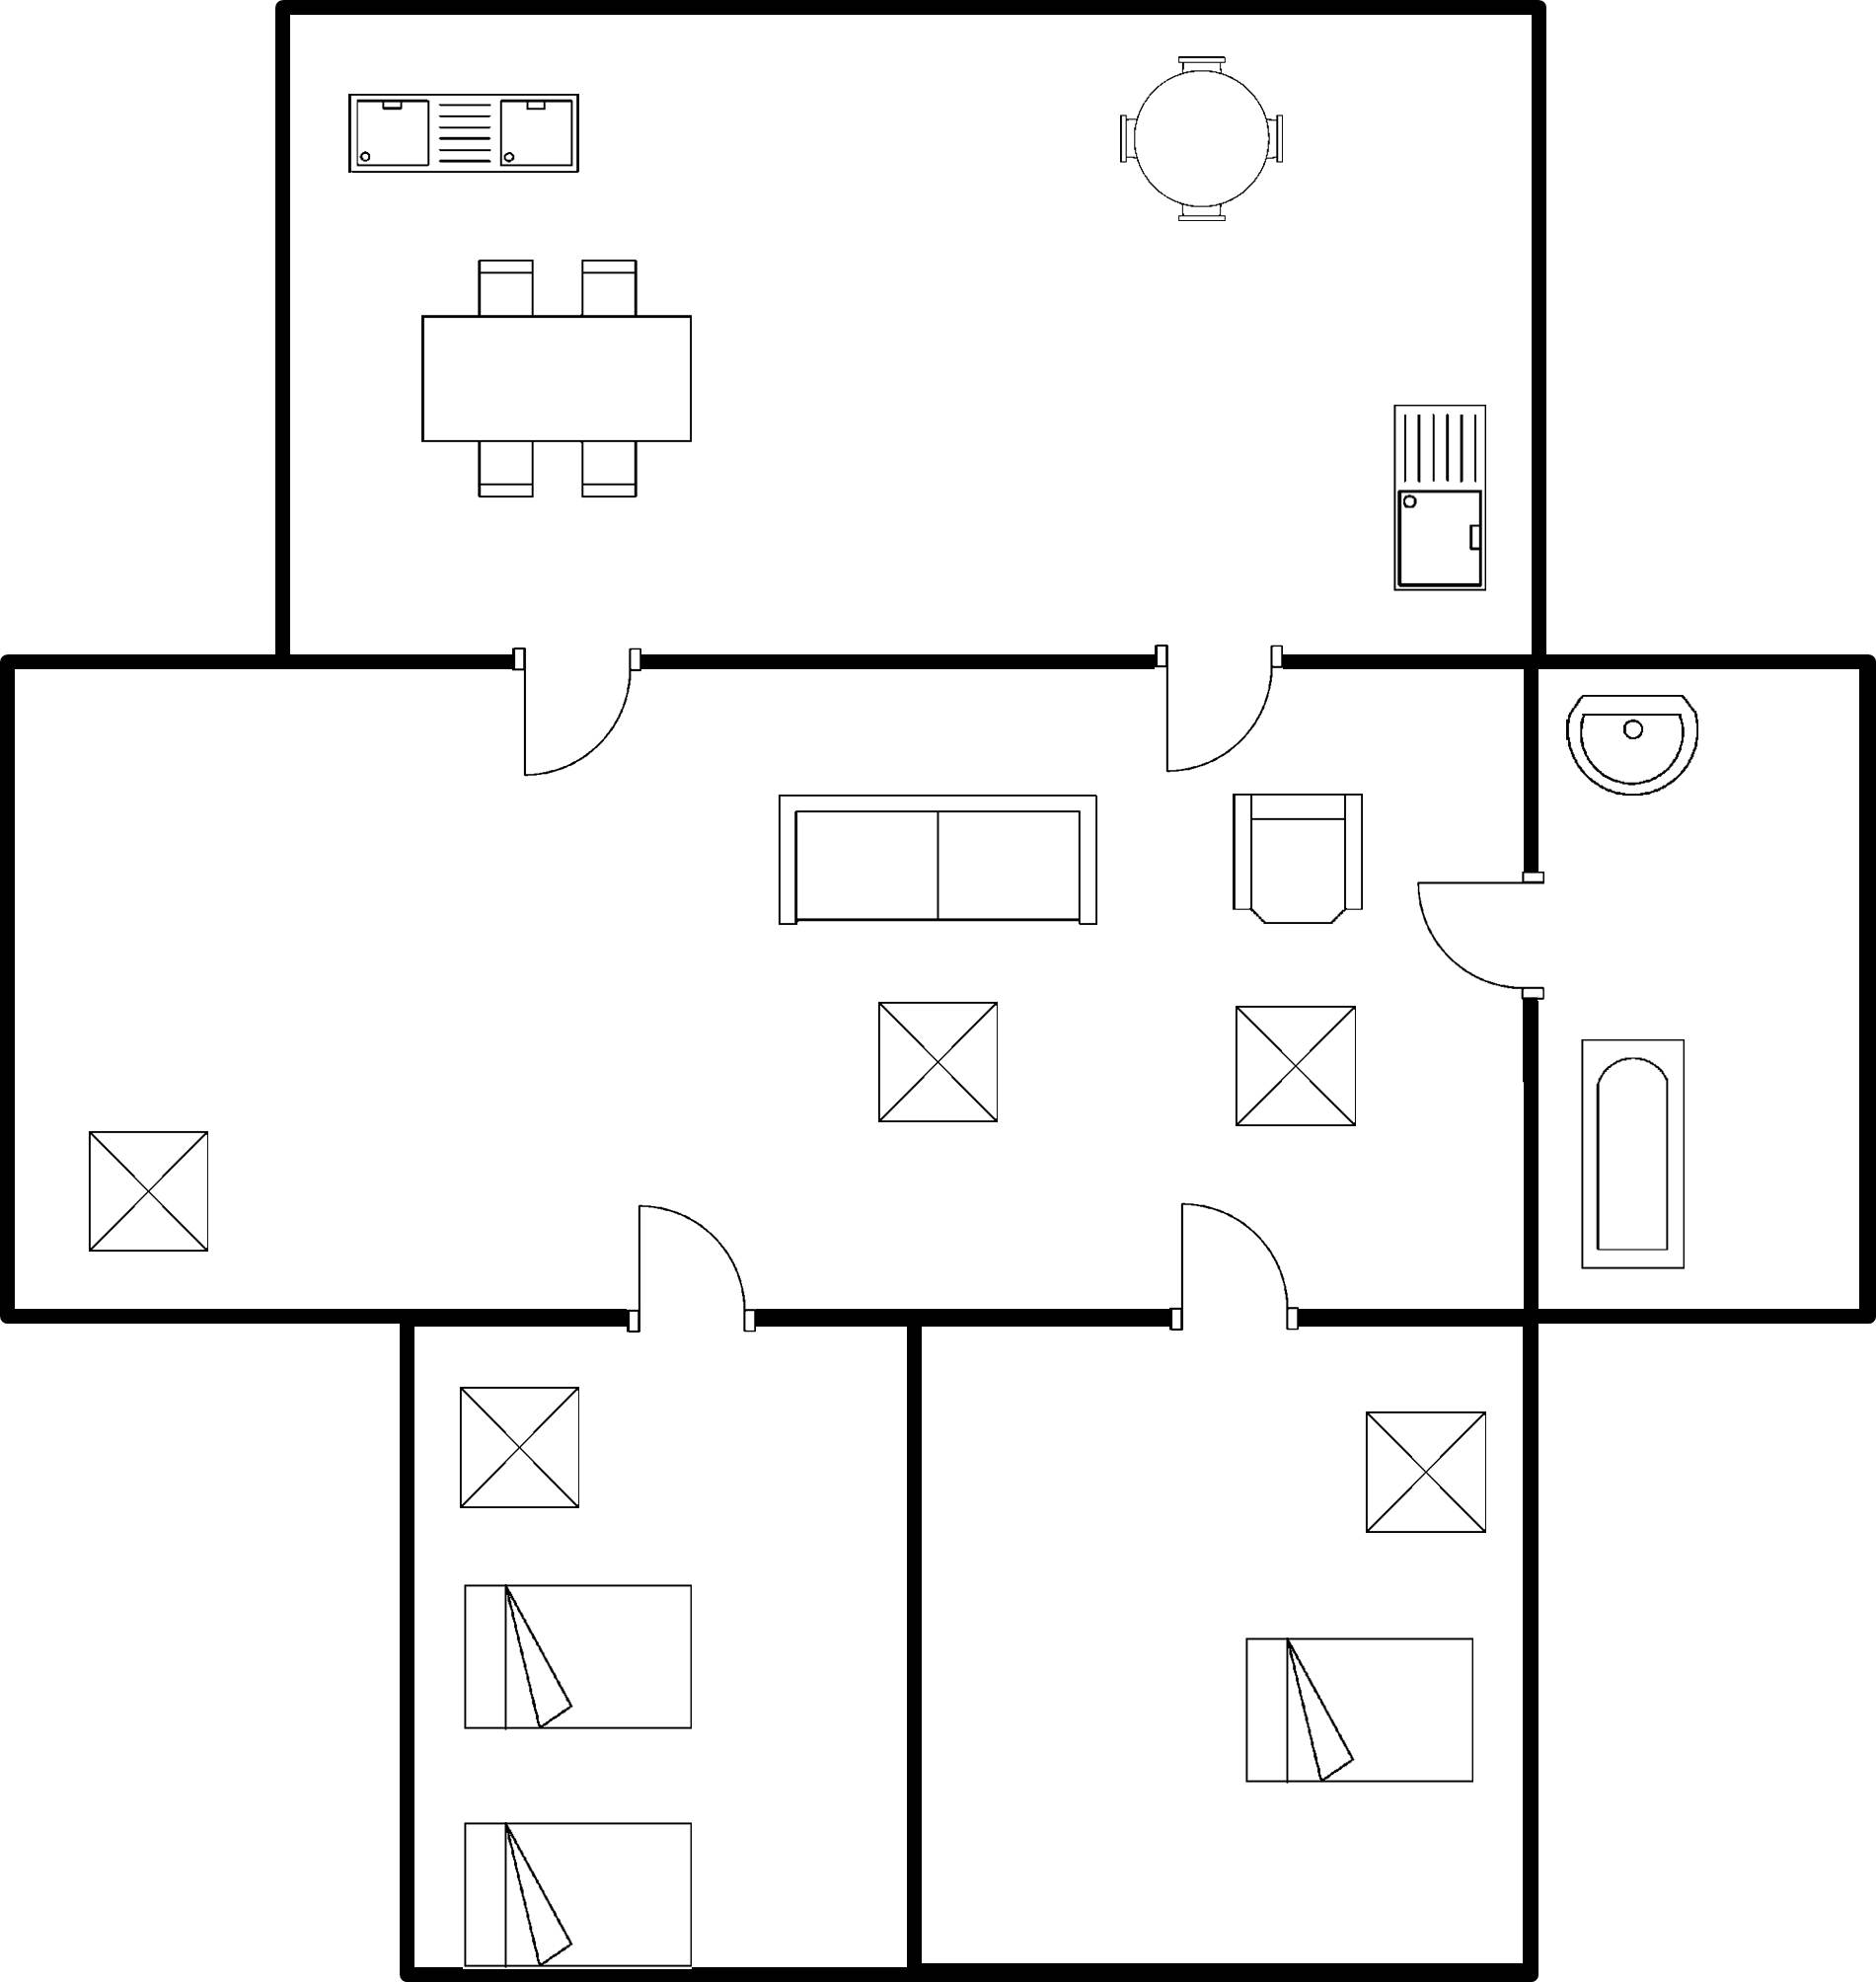bed: (405, 240, 709, 509), (455, 1569, 705, 1742), (1237, 1628, 1486, 1797), (455, 1813, 713, 1966)
coffee_table: (445, 1370, 602, 1527), (1345, 1398, 1500, 1554), (1218, 991, 1371, 1146), (72, 1118, 223, 1265), (863, 989, 1016, 1136)
large_sofa: (761, 780, 1113, 947)
round_table: (1103, 40, 1299, 238)
sink: (1378, 391, 1498, 604)
small_sink: (1552, 681, 1713, 808)
tub: (1568, 1024, 1697, 1285)
twin_sink: (337, 79, 592, 186)
